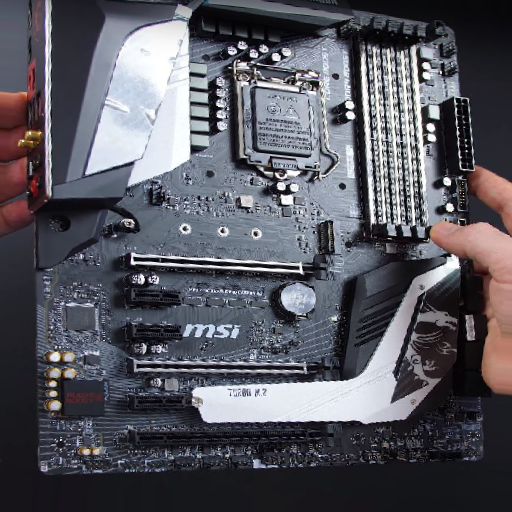CPU: (234, 68, 323, 183)
GPU: (127, 250, 335, 282), (128, 356, 341, 387), (125, 425, 345, 450)
MOTHERBOARD: (19, 1, 491, 481)
RAM: (358, 17, 435, 247)
SSD: (319, 218, 343, 254)
